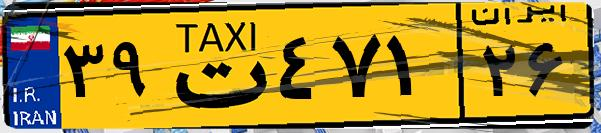1: (385, 28, 445, 110)
2: (475, 38, 525, 113)
3: (57, 26, 110, 100)
4: (270, 28, 330, 110)
6: (525, 38, 570, 115)
7: (330, 28, 385, 110)
9: (110, 28, 158, 98)
ت: (158, 12, 270, 120)
